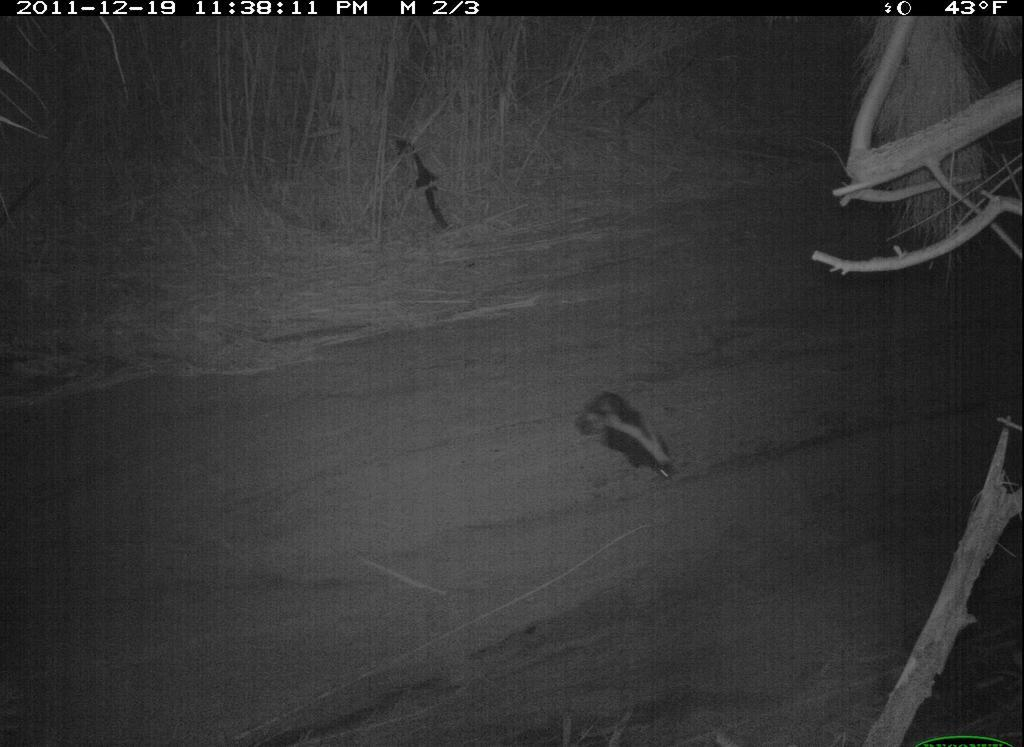skunk: (574, 381, 681, 488)
